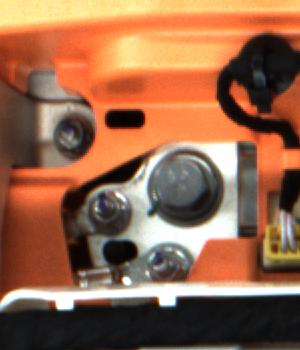nut_b: (145, 147, 236, 229)
screw_s: (89, 188, 126, 230), (48, 116, 85, 156), (146, 246, 184, 283)
